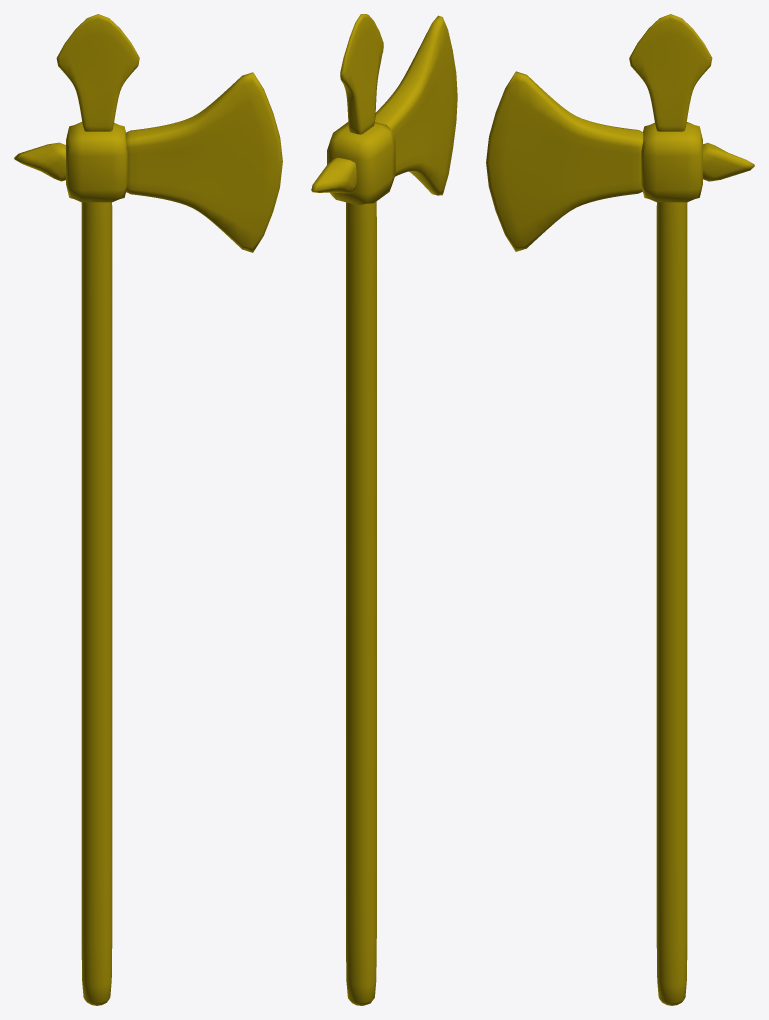
Rendered from ArmaHeroe.fbx.
3 renders of one model, left to right at view 1: azimuth 90°, elevation 25°; view 2: azimuth 150°, elevation 25°; view 3: azimuth 270°, elevation 25°, orthographic.
Parts seen in each view (by area): view 1: Cube.000; view 2: Cube.000; view 3: Cube.000.
Part boxes in pixels (box(x1,y1,x2,y2)): Cube.000: box(14, 14, 282, 1005); Cube.000: box(311, 14, 457, 1005); Cube.000: box(486, 14, 754, 1005).
Size of the model in its own units: 10.08 by 209 by 51.4.
